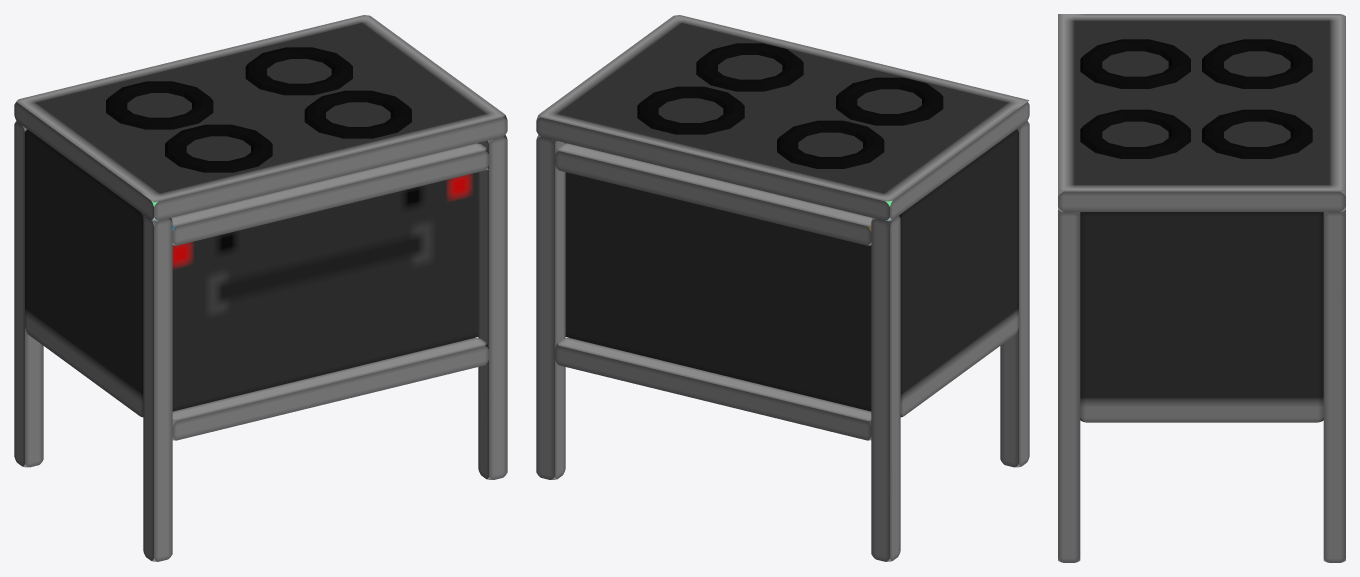
The model's file is aragaz.fbx.
3 renders of one model, left to right at view 1: azimuth 30°, elevation 25°; view 2: azimuth 150°, elevation 25°; view 3: azimuth 270°, elevation 25°, orthographic. The views are drawn at different scales.
Parts seen in each view (by area): view 1: cube_9, cube_8, cube, cube_2, cube_5, cube_6, cube_1, torus_3, torus_2, torus_1, torus; view 2: cube_9, cube_8, cube_1, cube_3, cube_4, cube_7, cube, torus_1, torus, torus_3, torus_2; view 3: cube_9, cube_8, cube_2, cube_3, torus_1, torus_3, torus, torus_2.
Part boxes in pixels (bbox=[...]): cube_9: bbox=[25, 129, 490, 417]; cube_8: bbox=[14, 15, 507, 220]; cube: bbox=[143, 216, 172, 561]; cube_2: bbox=[478, 135, 507, 479]; cube_5: bbox=[172, 338, 488, 440]; cube_6: bbox=[171, 143, 488, 245]; cube_1: bbox=[14, 121, 43, 467]; torus_3: bbox=[106, 81, 213, 129]; torus_2: bbox=[245, 47, 352, 95]; torus_1: bbox=[165, 124, 272, 172]; torus: bbox=[304, 90, 411, 138]; cube_9: bbox=[551, 129, 1018, 417]; cube_8: bbox=[536, 15, 1029, 220]; cube_1: bbox=[871, 216, 900, 561]; cube_3: bbox=[536, 135, 565, 479]; cube_4: bbox=[555, 338, 871, 440]; cube_7: bbox=[555, 143, 872, 245]; cube: bbox=[1000, 121, 1029, 467]; torus_1: bbox=[836, 77, 943, 125]; torus: bbox=[696, 43, 803, 91]; torus_3: bbox=[777, 120, 884, 168]; torus_2: bbox=[637, 86, 744, 134]; cube_9: bbox=[1080, 212, 1323, 422]; cube_8: bbox=[1058, 14, 1345, 211]; cube_2: bbox=[1058, 207, 1080, 562]; cube_3: bbox=[1323, 207, 1345, 562]; torus_1: bbox=[1080, 39, 1190, 88]; torus_3: bbox=[1202, 39, 1312, 88]; torus: bbox=[1080, 109, 1190, 158]; torus_2: bbox=[1202, 109, 1312, 158].
Size of the model in its own units: 238 by 235 by 162.
1 material, 1 textured.
